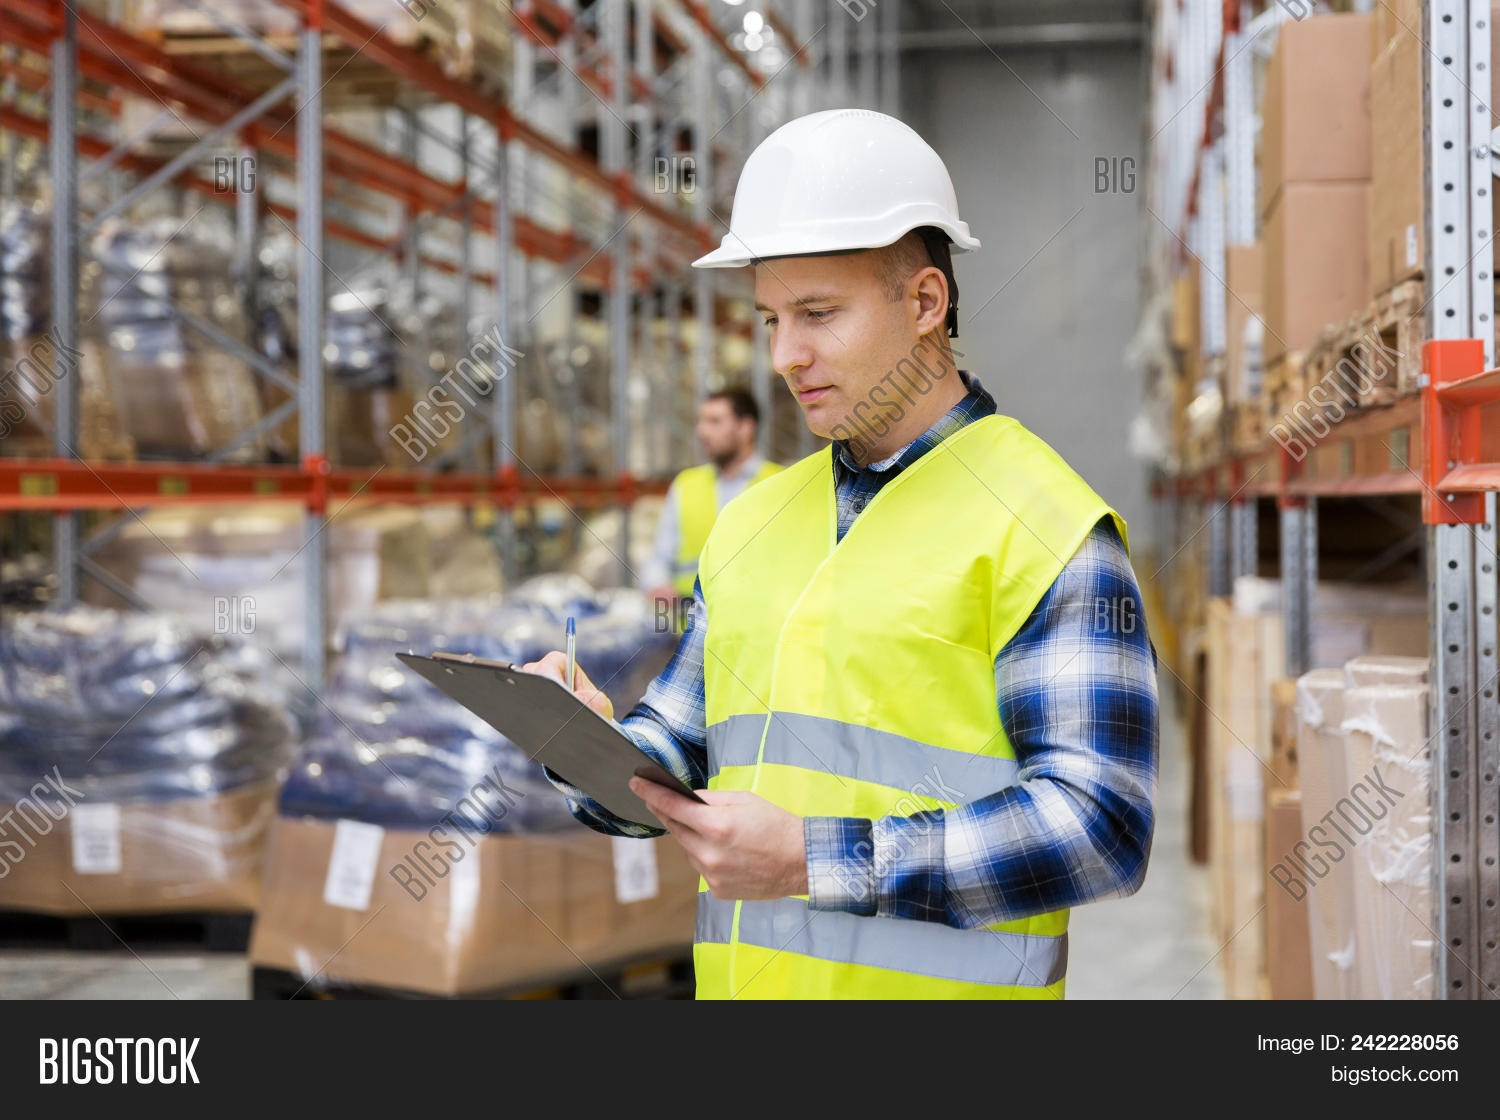helmet: (695, 102, 983, 264)
person with full safety: (706, 99, 1130, 1007)
person with partial safety: (653, 391, 788, 599)
safety vest: (703, 423, 1091, 1005), (673, 465, 779, 605)
